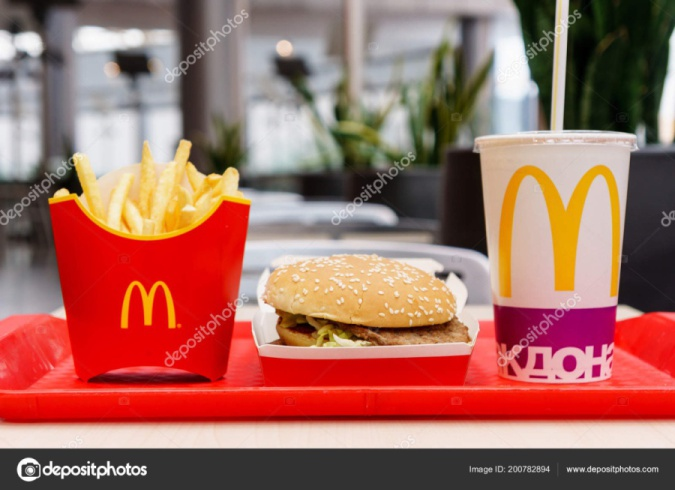mcdonalds: (493, 159, 627, 308), (106, 272, 183, 341)
